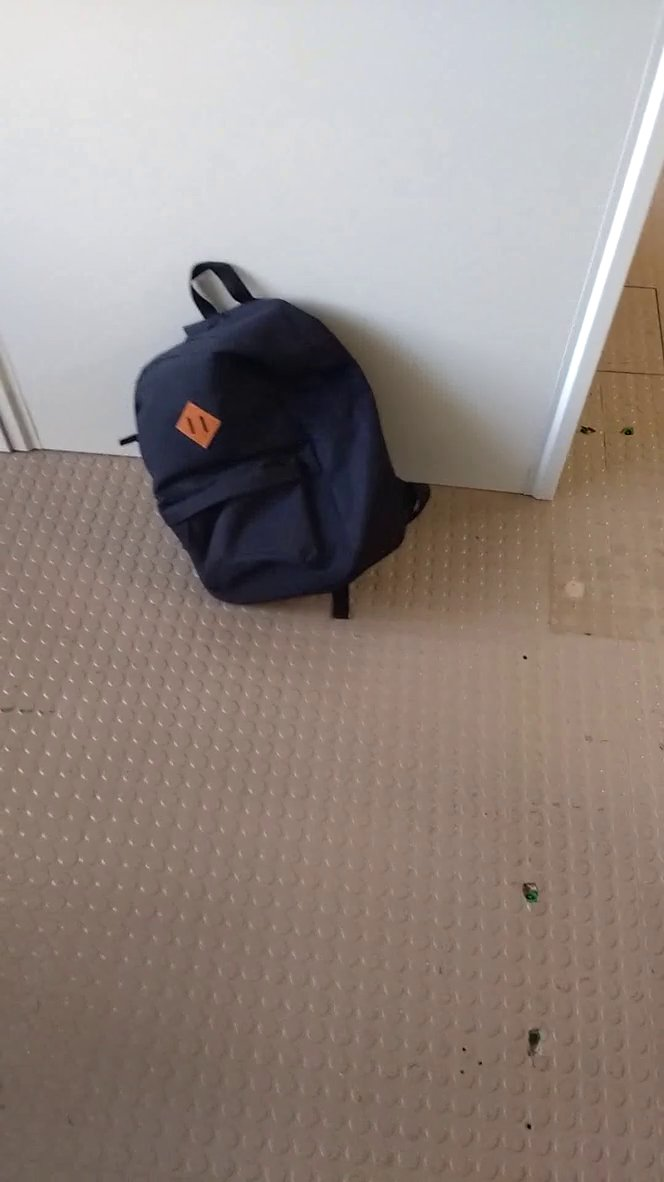bag: (105, 242, 444, 641)
